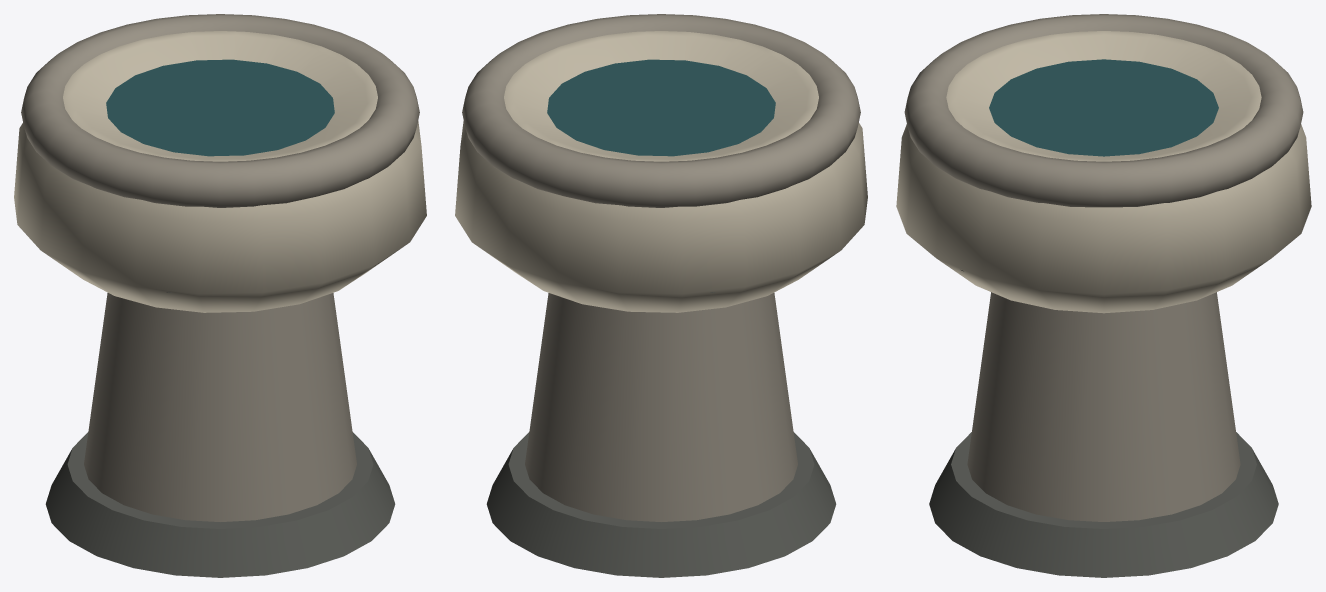
The model's file is detail_font_basin.glb.
The picture shows the model from 3 angles, left to right: view 1: azimuth 30°, elevation 25°; view 2: azimuth 150°, elevation 25°; view 3: azimuth 270°, elevation 25°; orthographic projection.
Parts seen in each view (by area): view 1: stone, wood, object 3; view 2: stone, wood, object 3; view 3: stone, wood, object 3.
Boxes of the visible parts, box(x1,y1,x2,y2) form: stone: box(21, 14, 419, 577); wood: box(14, 31, 426, 312); object 3: box(106, 59, 334, 156); stone: box(462, 14, 860, 577); wood: box(455, 31, 867, 312); object 3: box(547, 59, 775, 156); stone: box(904, 14, 1303, 577); wood: box(896, 31, 1311, 313); object 3: box(989, 59, 1218, 156).
Bounding box in the file's own units: 1 × 1.1 × 1.
